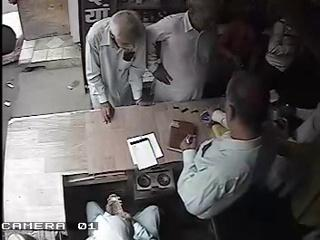Normal: (176, 71, 304, 240), (146, 1, 224, 104), (84, 11, 150, 125), (85, 194, 134, 240)
